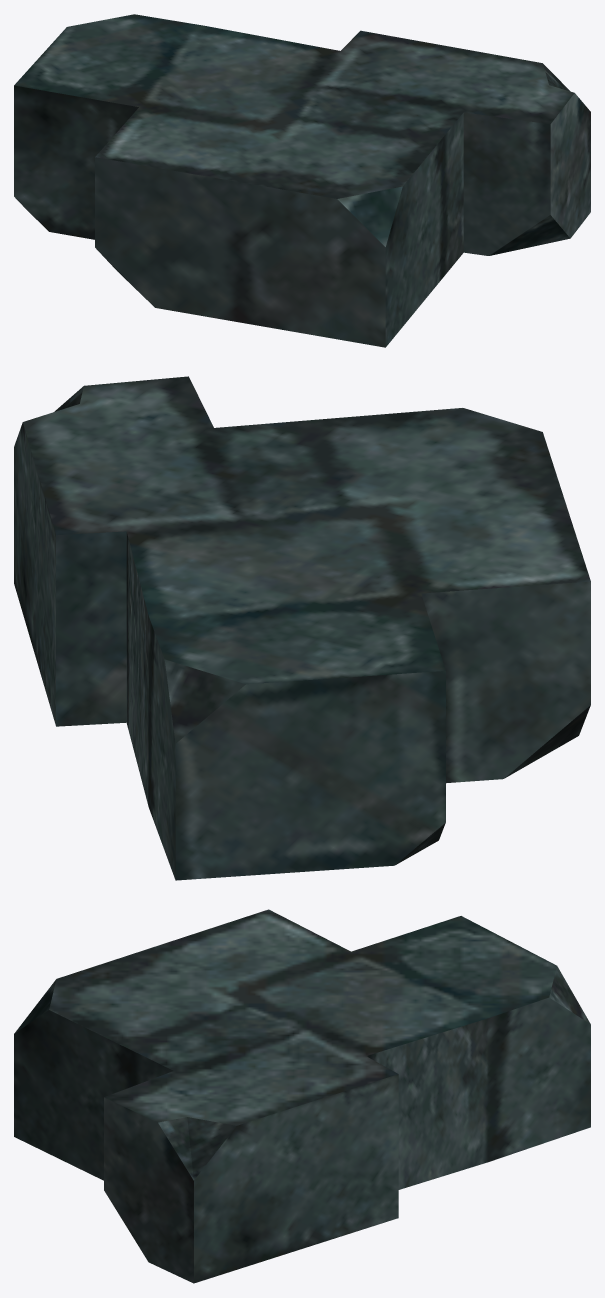
The model's file is floor_peice4.fbx.
The picture shows the model from 3 angles, top to bottom: view 1: azimuth 30°, elevation 25°; view 2: azimuth 150°, elevation 25°; view 3: azimuth 270°, elevation 25°; orthographic projection. The views are drawn at different scales.
Visible parts, largest first — view 1: floor_shadow; view 2: floor_shadow; view 3: floor_shadow.
Part boxes in pixels (x1,y1,x2,y2): floor_shadow: (14, 14, 590, 347); floor_shadow: (14, 376, 590, 880); floor_shadow: (14, 909, 590, 1283).
Size of the model in its own units: 1.74 by 0.5083 by 1.85.
